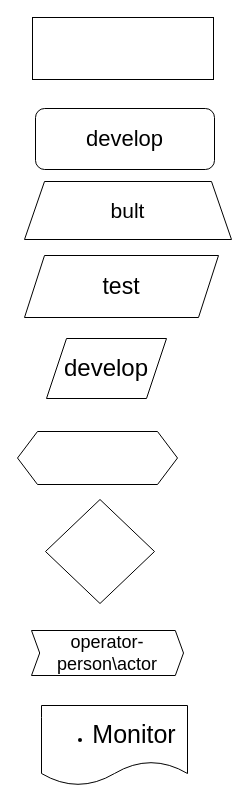
The diagram is 249 pixels wide and 803 high, and some of its shapes have lost their labels. The box of each missing label's shape, as (x1, y1, x2, y2) in pixels:
deploy: (44, 498, 154, 604)
plan: (32, 16, 214, 80)
release: (16, 430, 178, 484)
